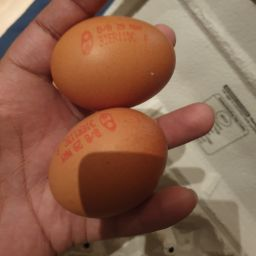Eggs: (26, 14, 176, 218), (32, 102, 178, 219), (46, 8, 192, 108)
